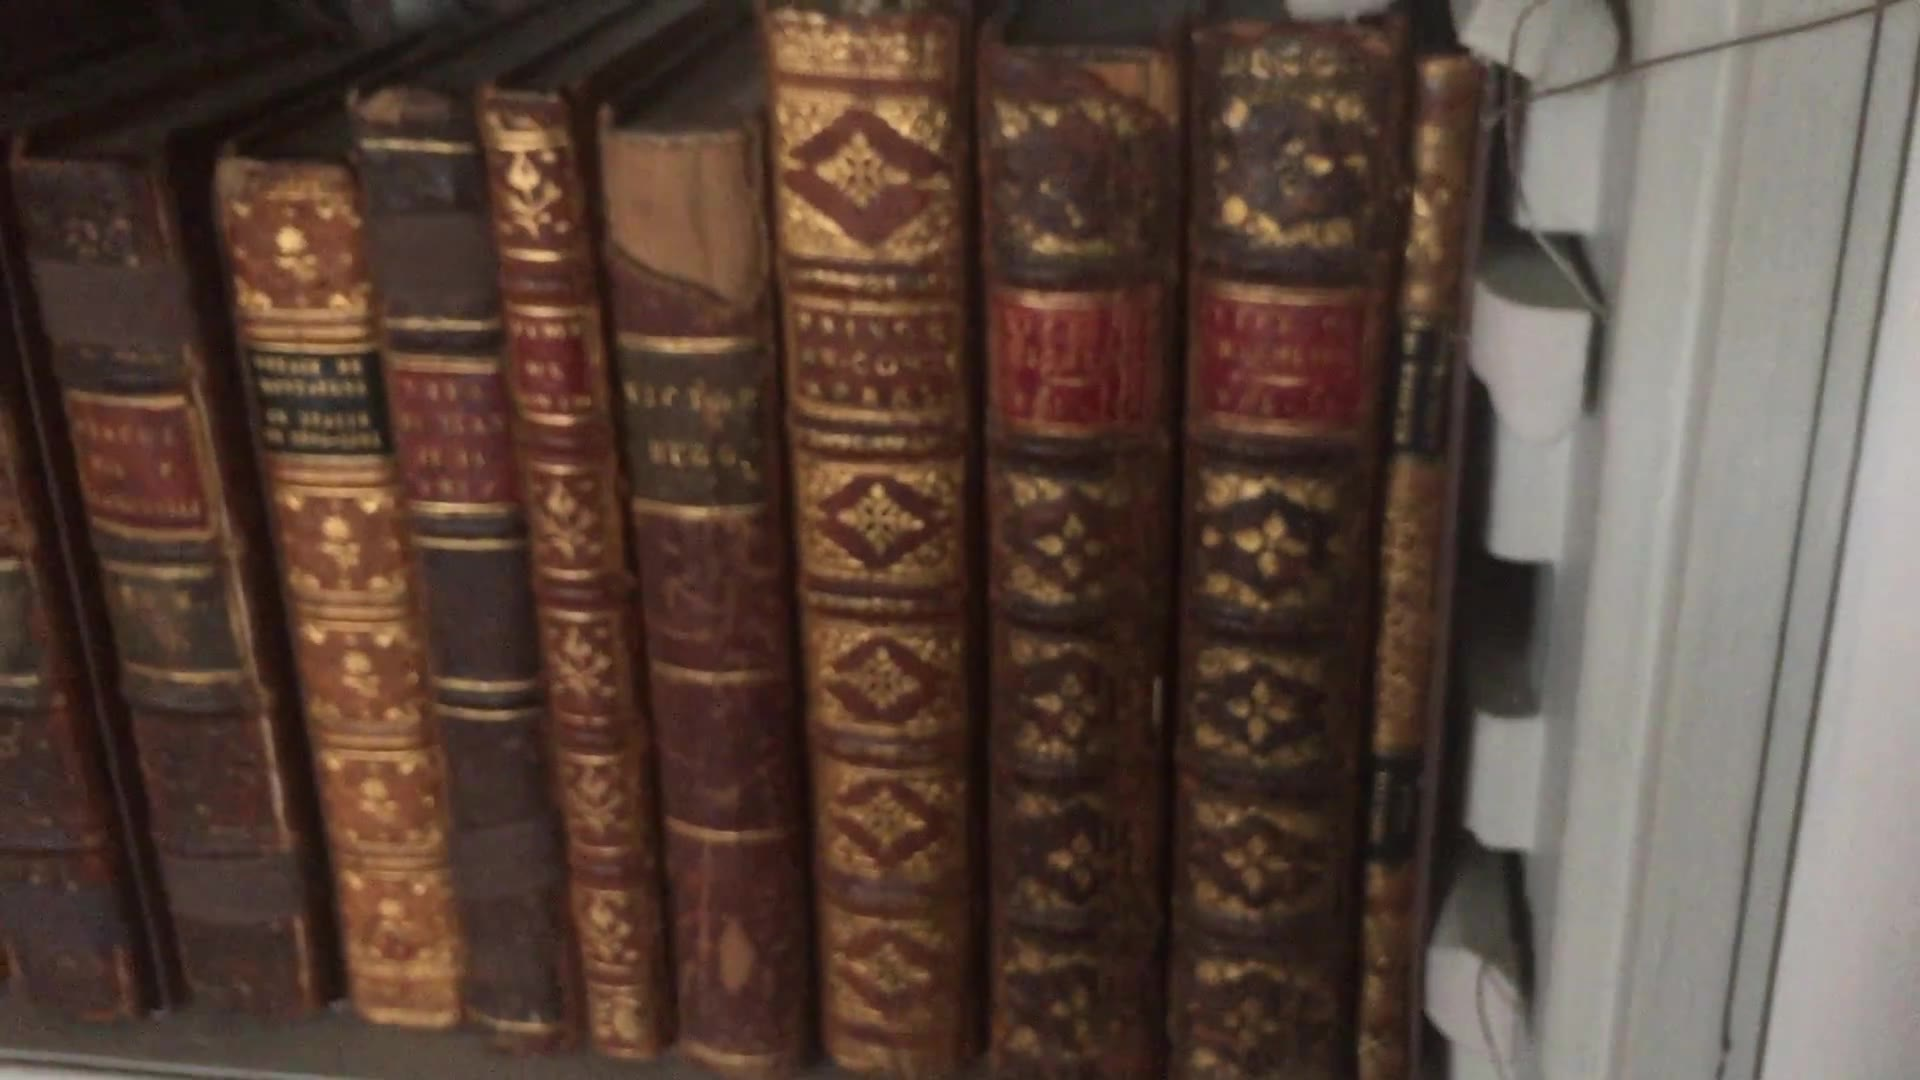Aa6-41: (194, 131, 460, 1054)
Aa6-42: (305, 102, 597, 1048)
Aa6-43: (460, 92, 663, 1058)
Aa6-44: (582, 117, 825, 1063)
Aa6-45: (764, 22, 982, 1080)
Aa6-46-47: (972, 29, 1367, 1080)
Aa6-48: (1373, 34, 1495, 1080)
